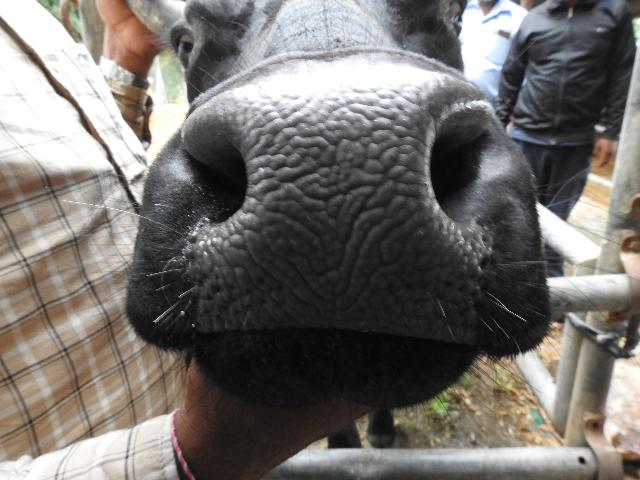Muzzle: (234, 87, 442, 330)
